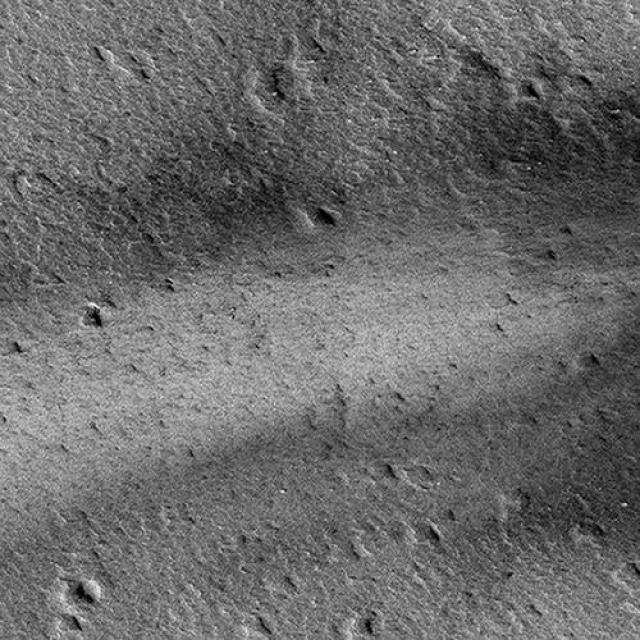crater: (0, 0, 45, 44), (66, 568, 108, 610), (0, 530, 15, 576)
